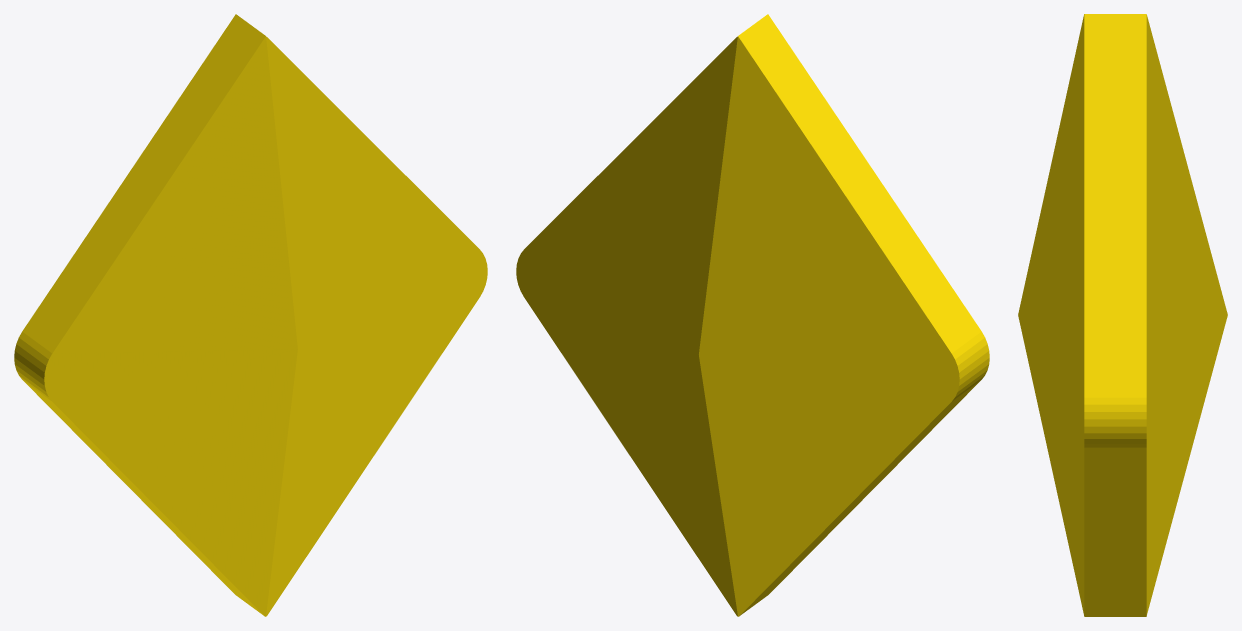
Rendered from star.glb.
3 renders of one model, left to right at view 1: azimuth 30°, elevation 25°; view 2: azimuth 150°, elevation 25°; view 3: azimuth 270°, elevation 25°, orthographic. The views are drawn at different scales.
Visible parts, largest first — view 1: Plane; view 2: Plane; view 3: Plane.
Part boxes in pixels (left/top/right/bottom): Plane: left=14, top=14, right=487, bottom=616; Plane: left=516, top=14, right=989, bottom=616; Plane: left=1018, top=14, right=1227, bottom=616.
Bounding box in the file's own units: 1.96 × 2.46 × 0.7751.
